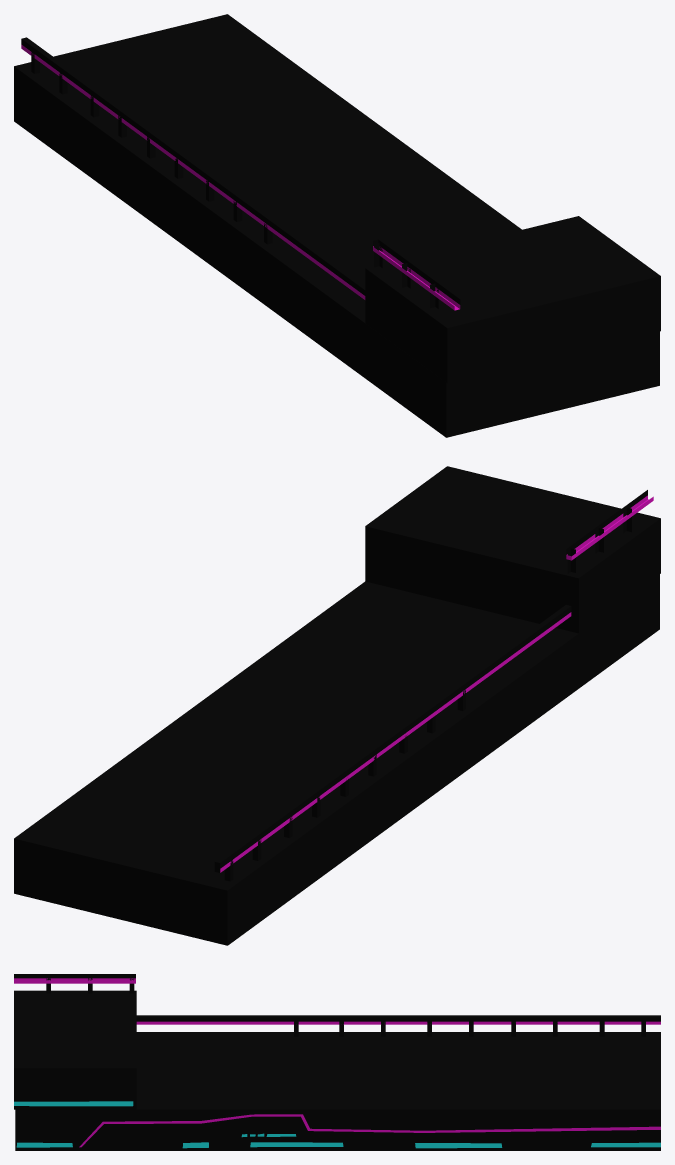
Rendered from neonyol3.fbx.
3 renders of one model, top to bottom at view 1: azimuth 30°, elevation 25°; view 2: azimuth 150°, elevation 25°; view 3: azimuth 270°, elevation 25°, orthographic. The views are drawn at different scales.
Visible parts, largest first — view 1: Cube.119; view 2: Cube.119; view 3: Cube.119.
Part boxes in pixels (bbox=[...]): Cube.119: bbox=[14, 14, 660, 437]; Cube.119: bbox=[14, 466, 660, 945]; Cube.119: bbox=[14, 974, 660, 1150].
Bounding box in the file's own units: 200 × 122 × 702.
